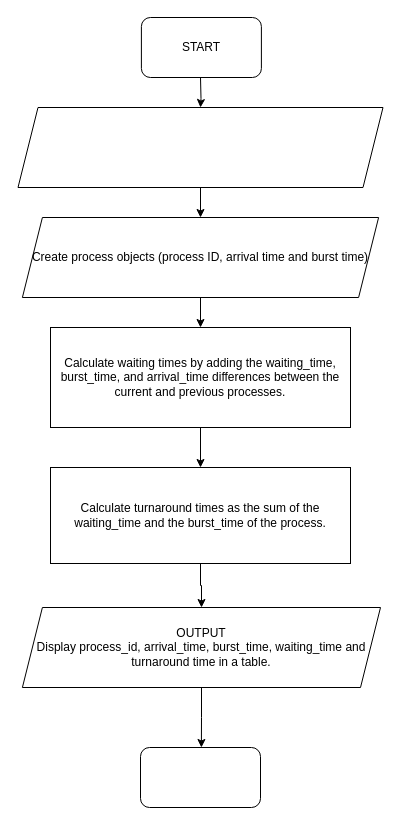
The diagram is 400 pixels wide and 825 high, and some of its shapes have lost their labels. Here are the shapes that lost their labels. From the top down, the box of each, then its label:
(17, 106, 383, 188): INPUT Initialize waiting time & turnaround time with length n and values to 0
(140, 746, 260, 808): STOP
